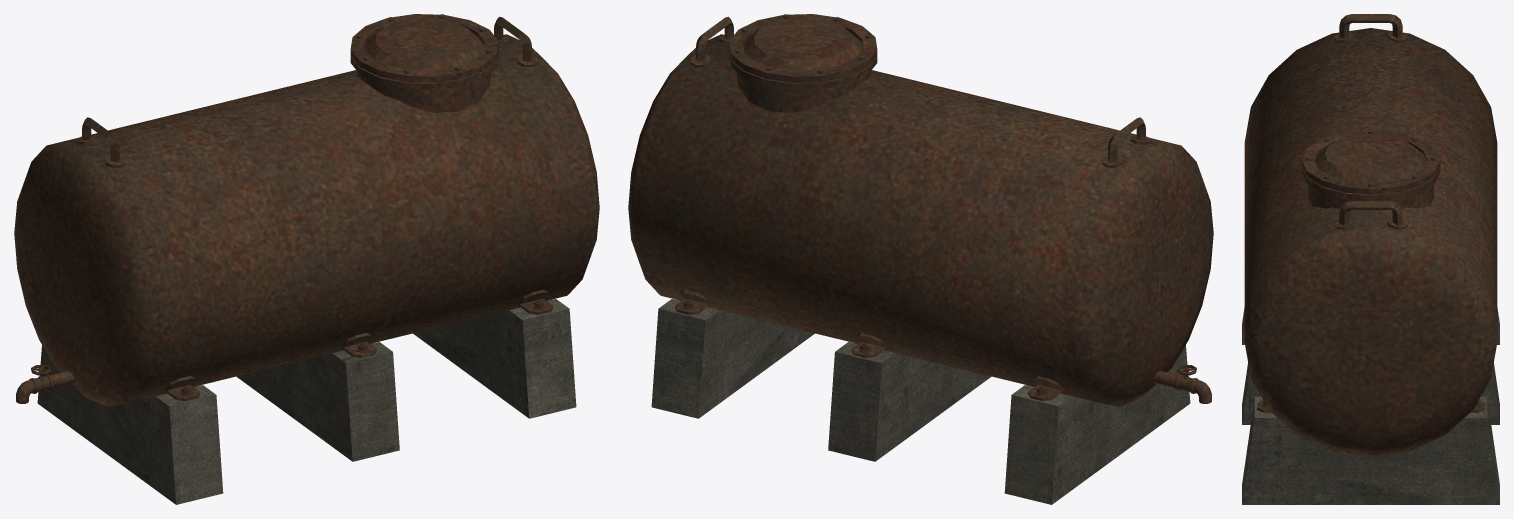
Rendered from storage_tank_mx_1.obj.
3 views of the same model, side by side, from view 1: azimuth 30°, elevation 25°; view 2: azimuth 150°, elevation 25°; view 3: azimuth 270°, elevation 25° (orthographic). The views are drawn at different scales.
Parts seen in each view (by area): view 1: storage_tank_mx_1; view 2: storage_tank_mx_1; view 3: storage_tank_mx_1.
Part boxes in pixels (<box>): storage_tank_mx_1: <box>14,14,599,504</box>; storage_tank_mx_1: <box>628,14,1213,504</box>; storage_tank_mx_1: <box>1242,14,1499,504</box>.
Size of the model in its own units: 4.53 by 2.74 by 2.04.
